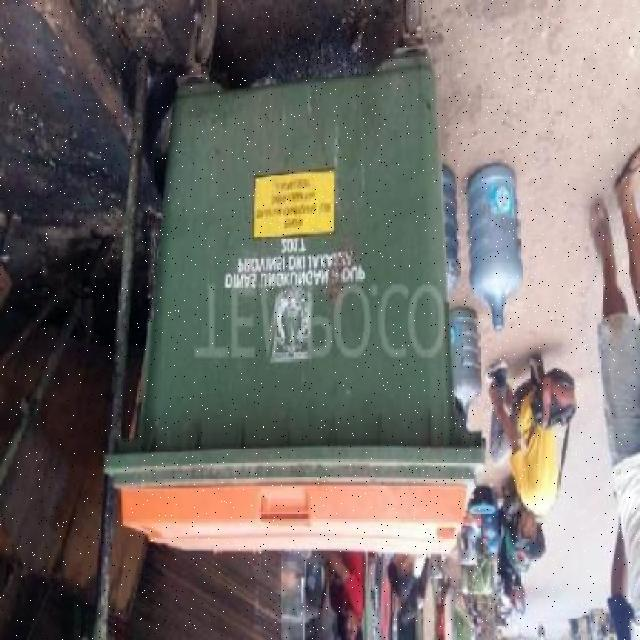garbage container: (96, 13, 490, 561)
